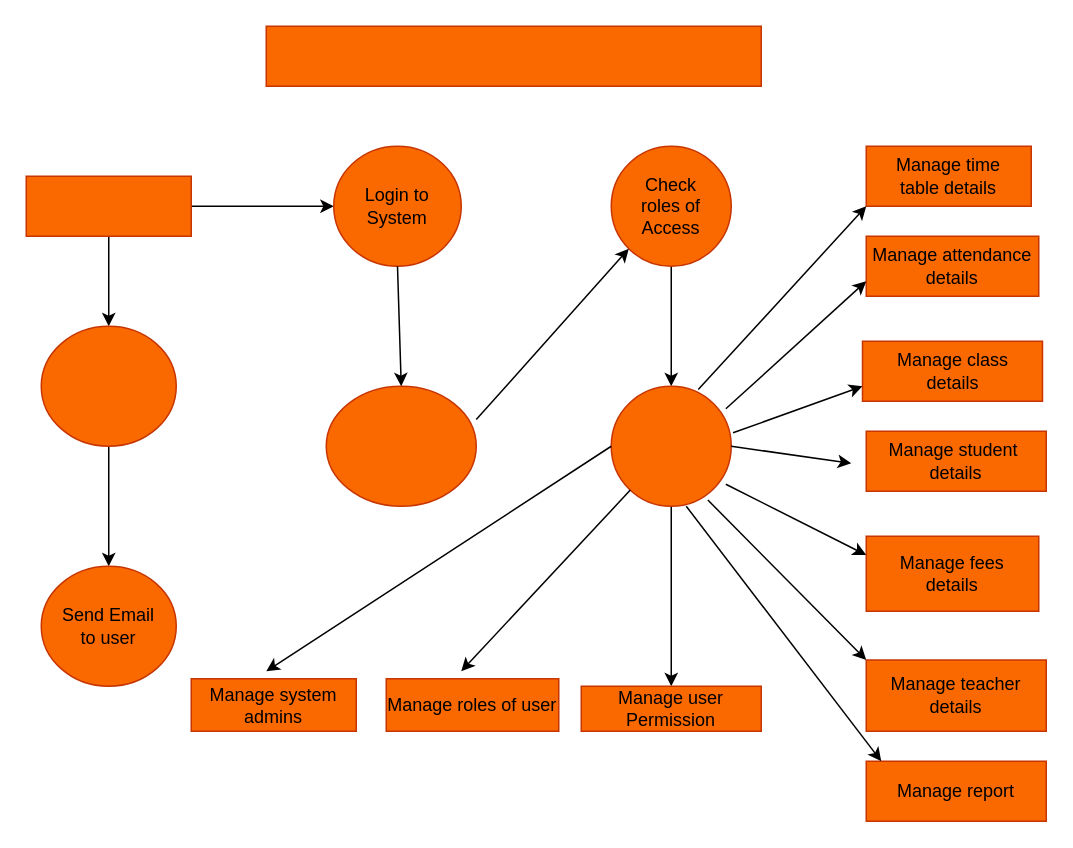
This 1073x848 diagram has some shape labels left out. Here are the shapes that lost their labels. From the top down, the centre of each, then its label:
At [513,55]: "student information system".
At [108,205]: "Admin".
At [108,385]: "Forgot Password".
At [400,445]: "Check credentials".
At [670,445]: "Manage Modules".
